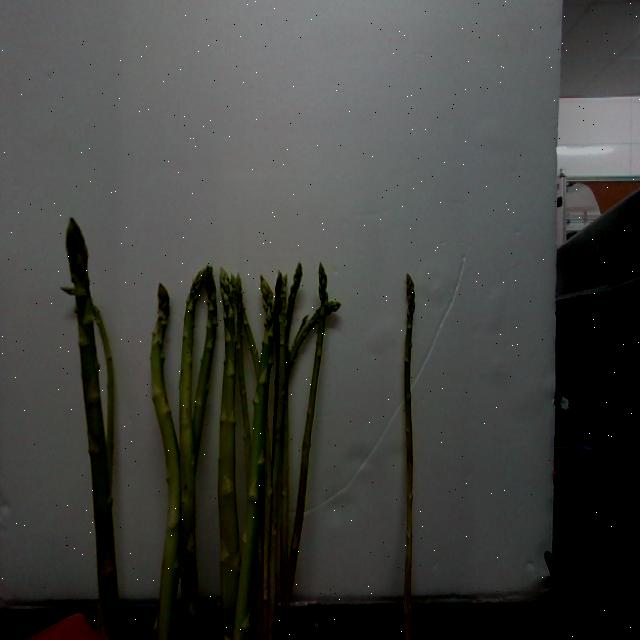aspargus: (63, 221, 120, 640), (402, 272, 418, 640)
